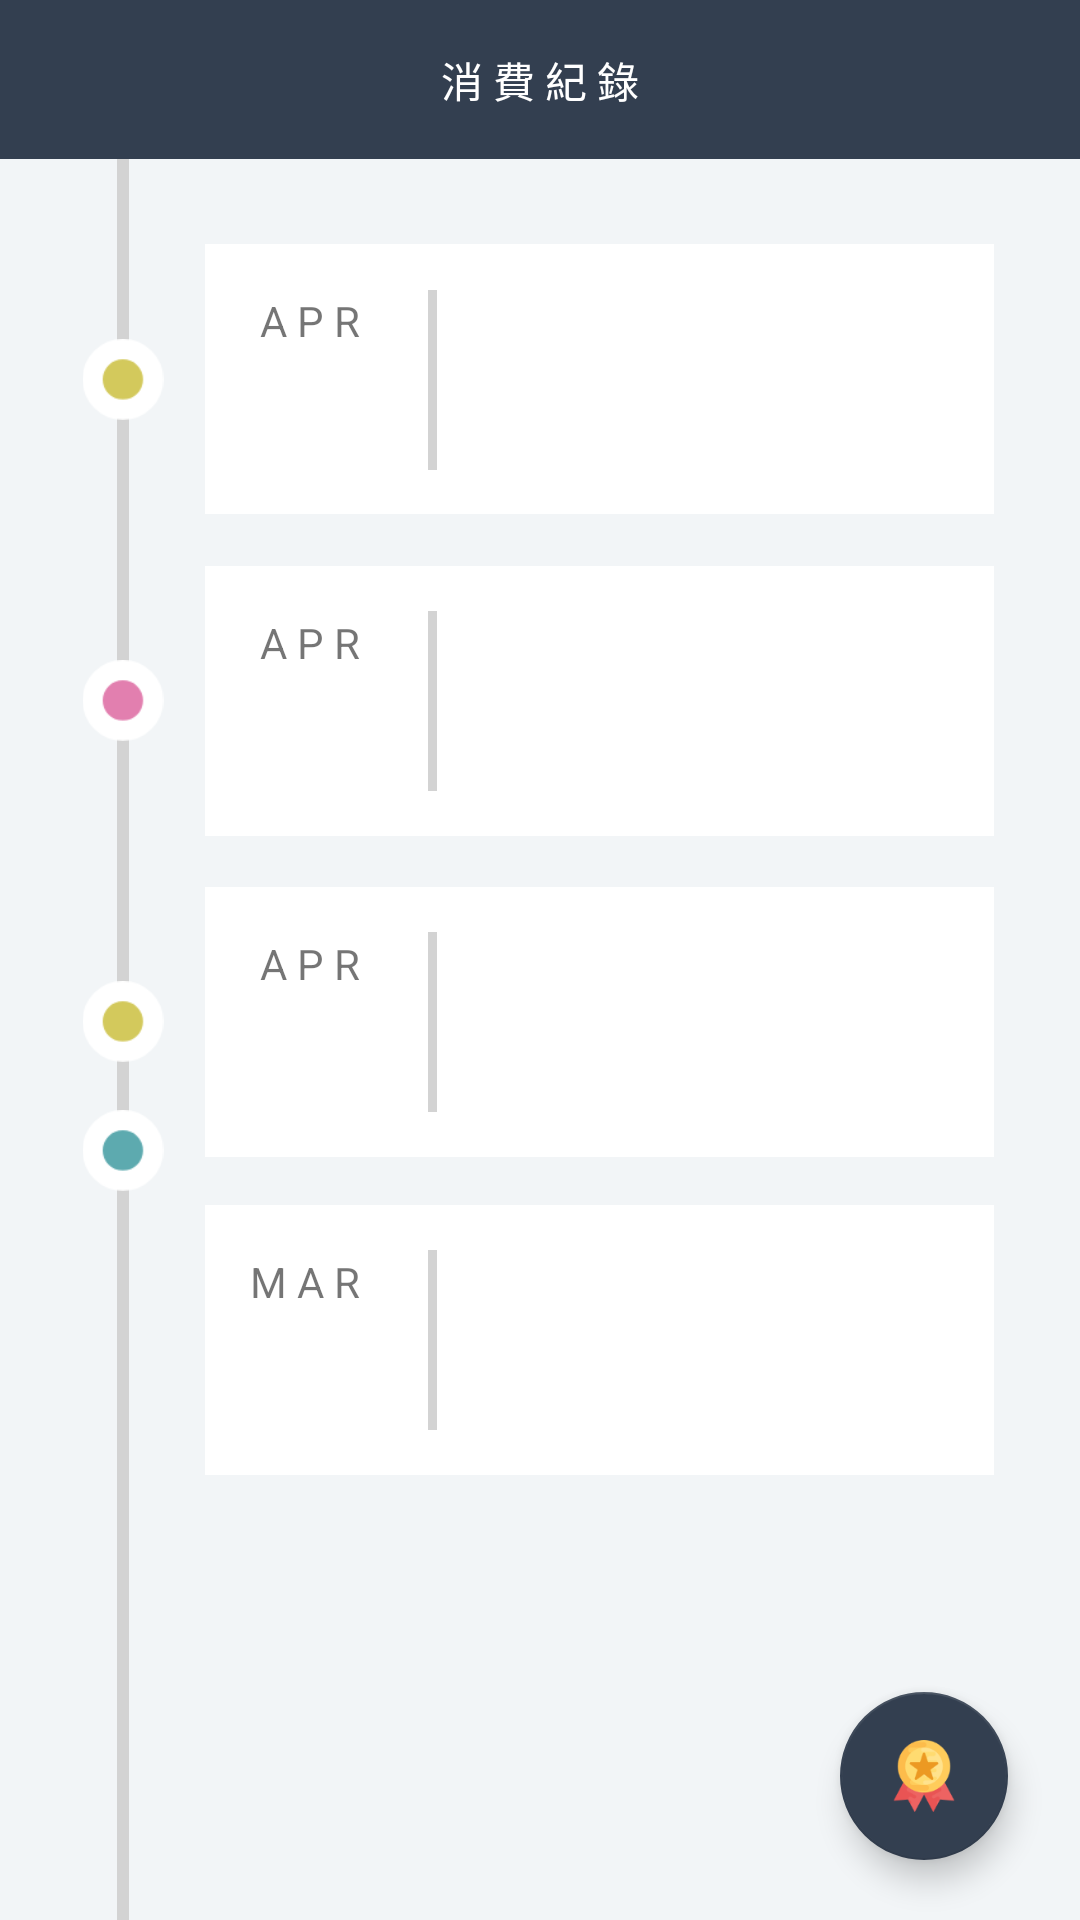

Icon click points for this 1080w x 1920h phone screenshot, format point (x, y):
medal: point (924, 1776)
